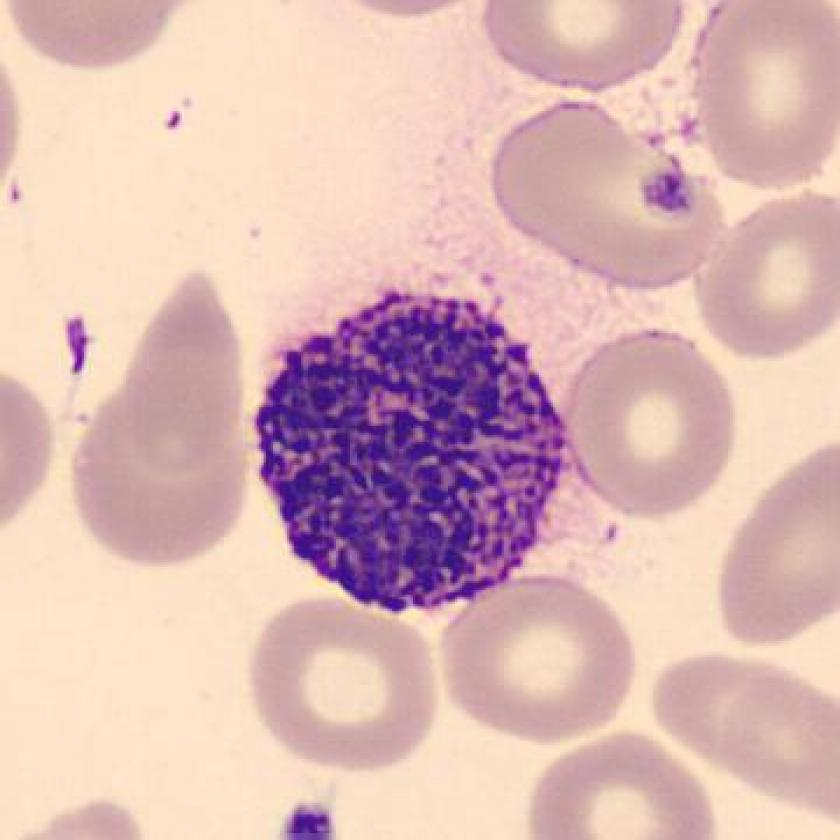basophil: (248, 274, 573, 614)
